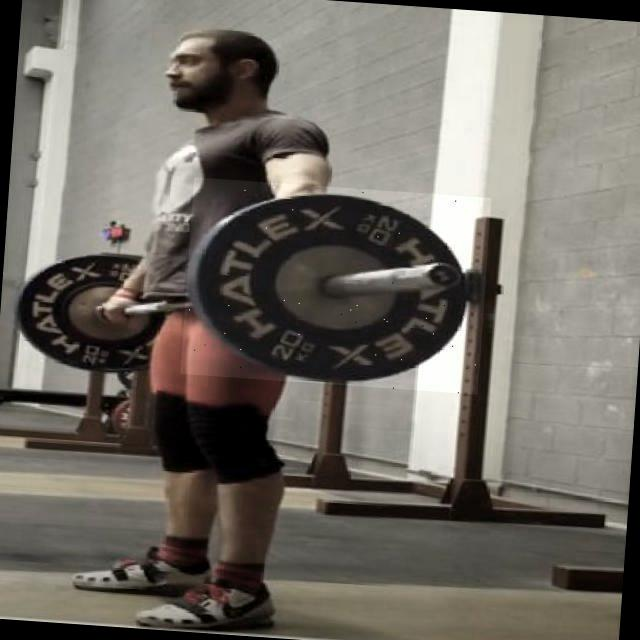barbell: (181, 177, 492, 395)
